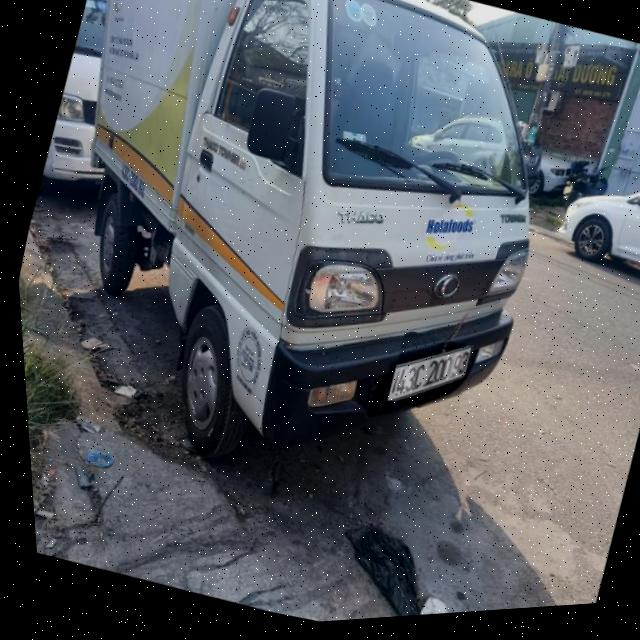car: (0, 0, 618, 558), (541, 142, 640, 300)
plate: (378, 324, 481, 422)
